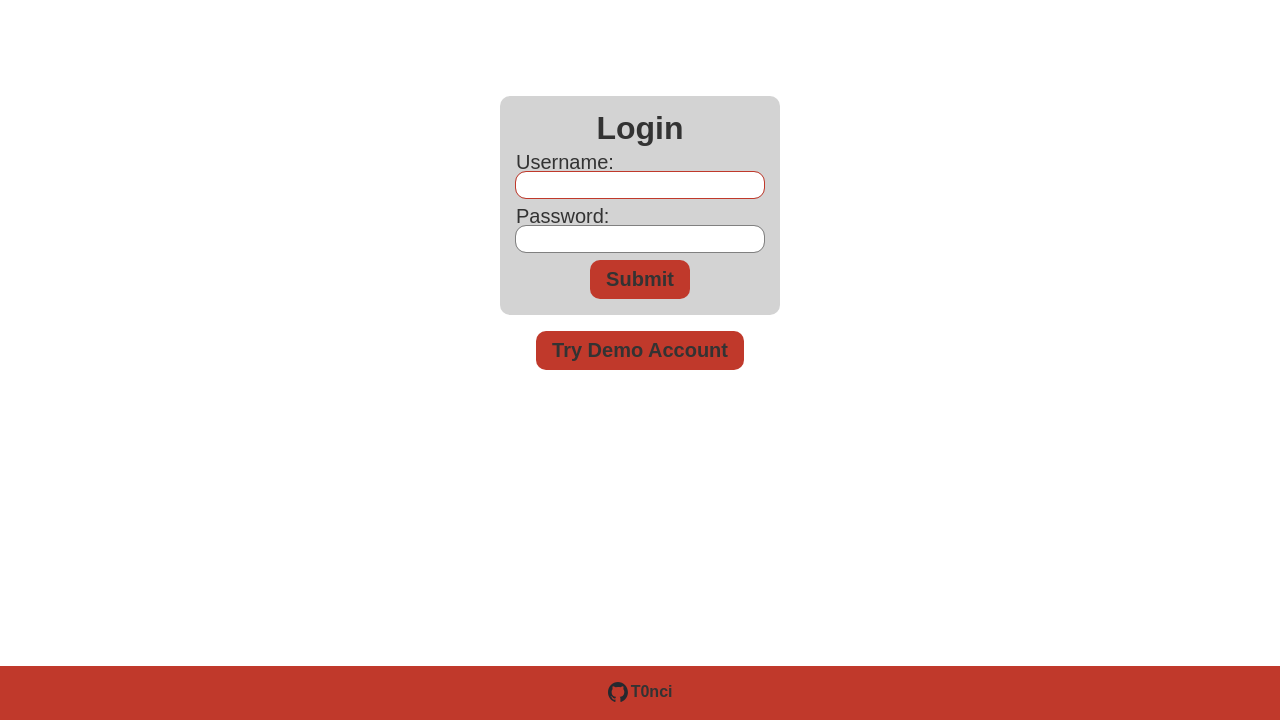
Test: Login Component › shows errors in bad request
In the field: (640, 185) 516,172 -> 764,198, type "username"
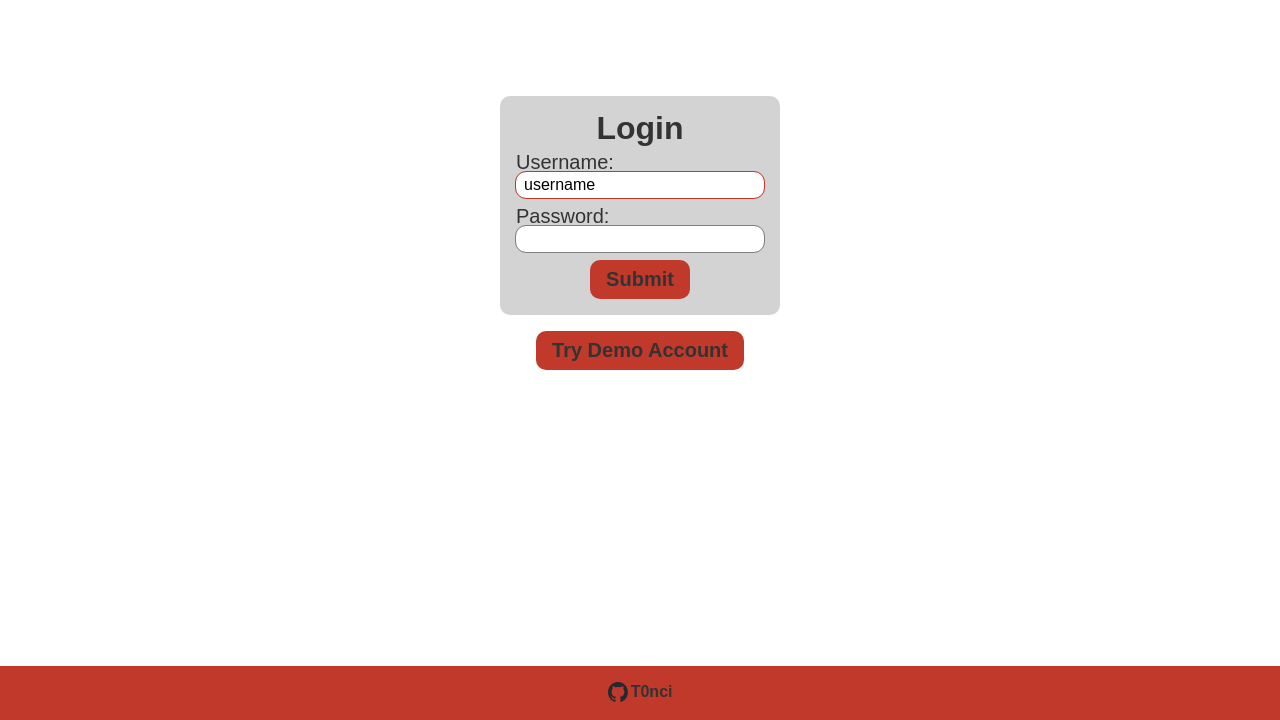
In the password field with test id "password": (640, 239) 516,226 -> 764,252, type "password"
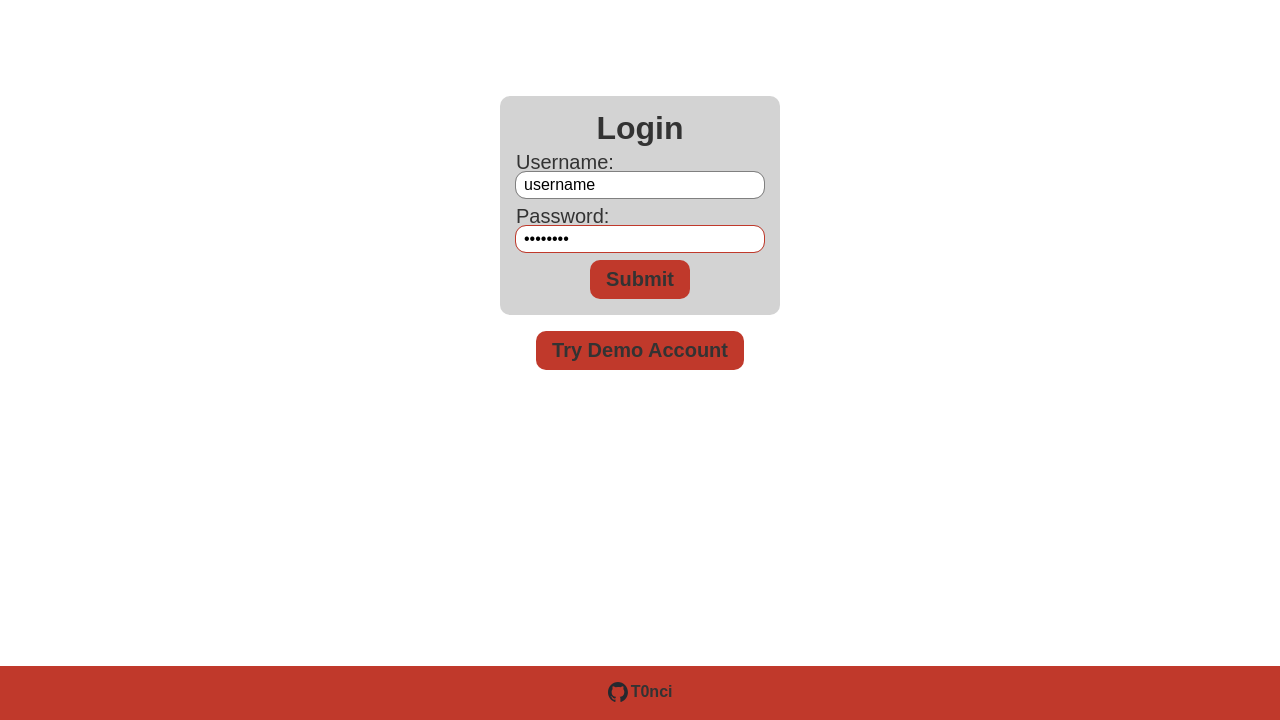
Click the button "Submit": (640, 280) 590,260 -> 690,299
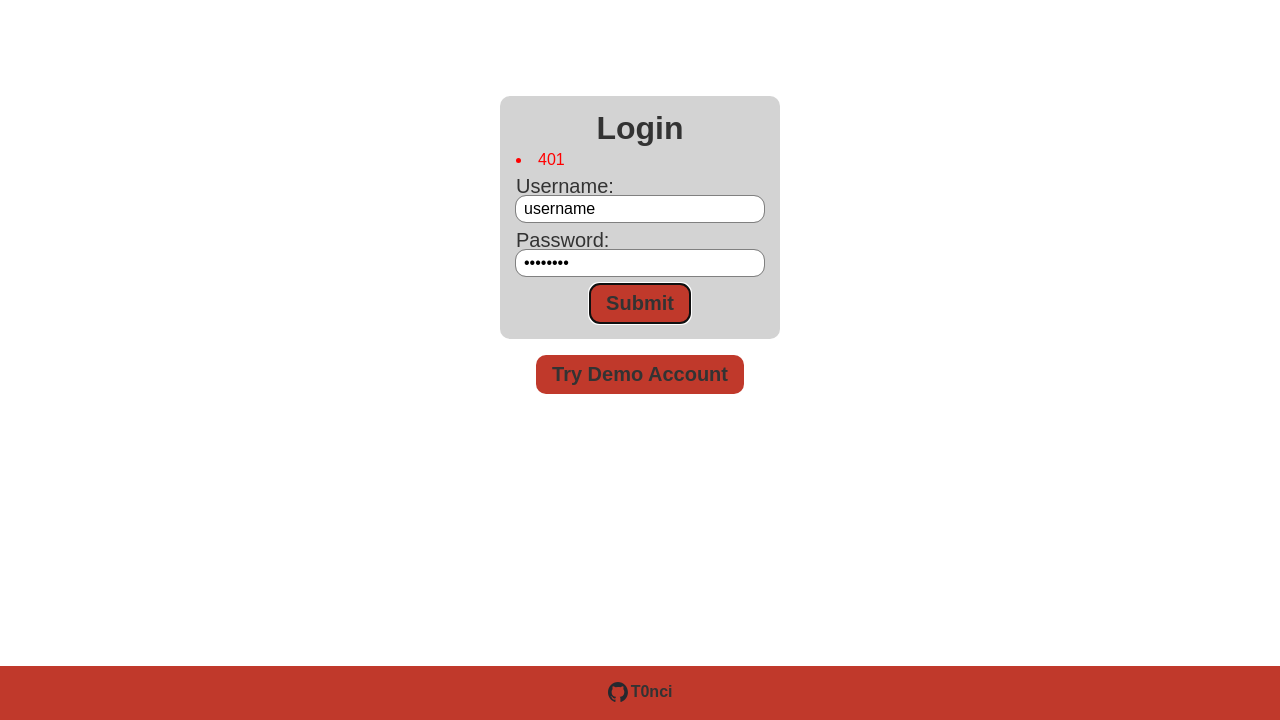
Check: the list item reads "401", box 538,151 -> 565,168
